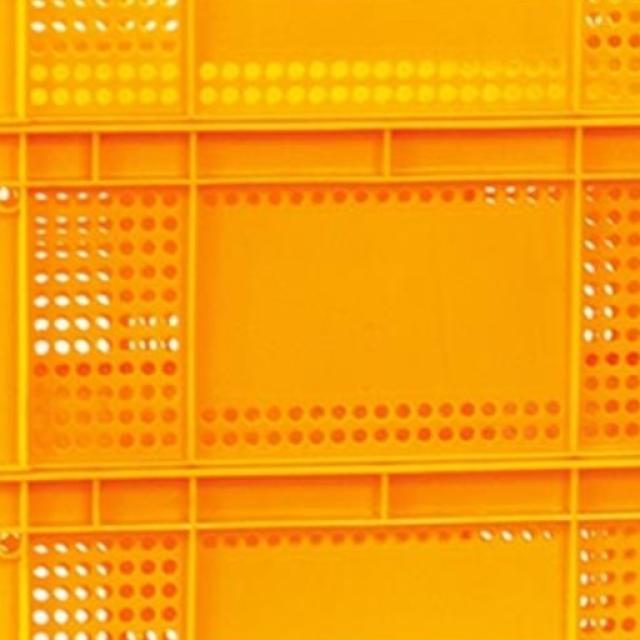basket: (0, 108, 640, 640), (3, 3, 640, 112)
